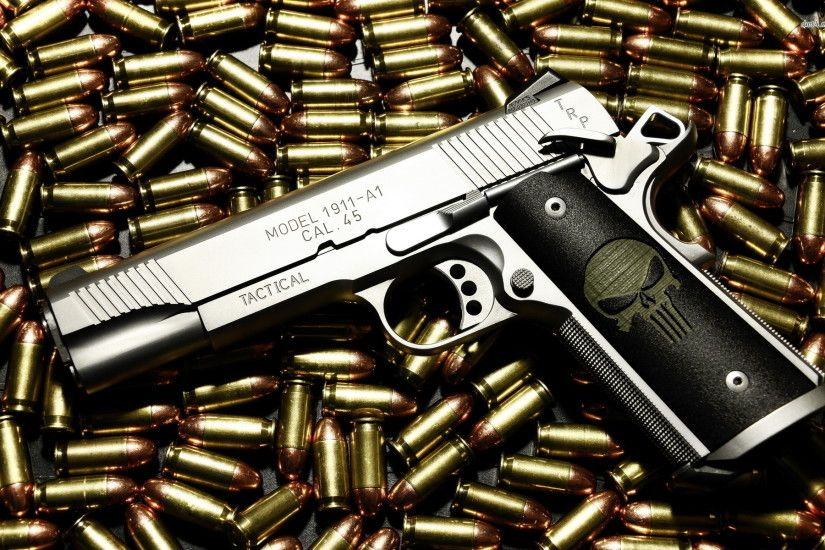pistol: (47, 69, 818, 518)
